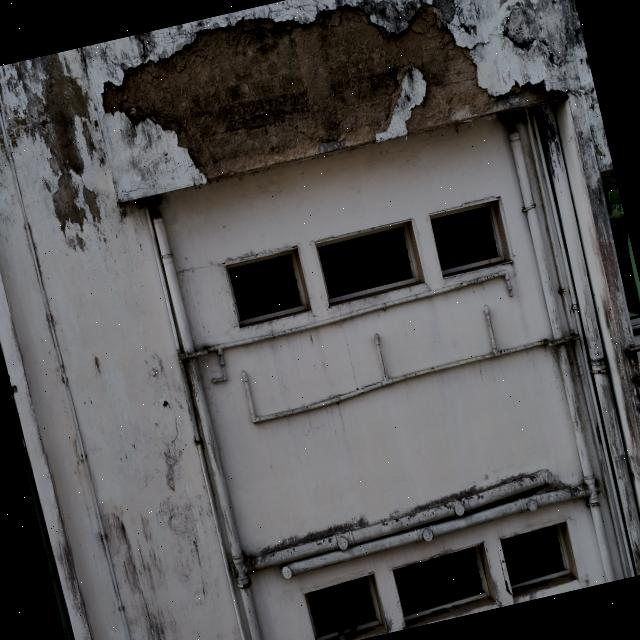peeling: (103, 3, 496, 180), (0, 52, 103, 247)
stain_mould: (502, 0, 584, 65), (354, 0, 421, 33), (432, 0, 455, 25)
